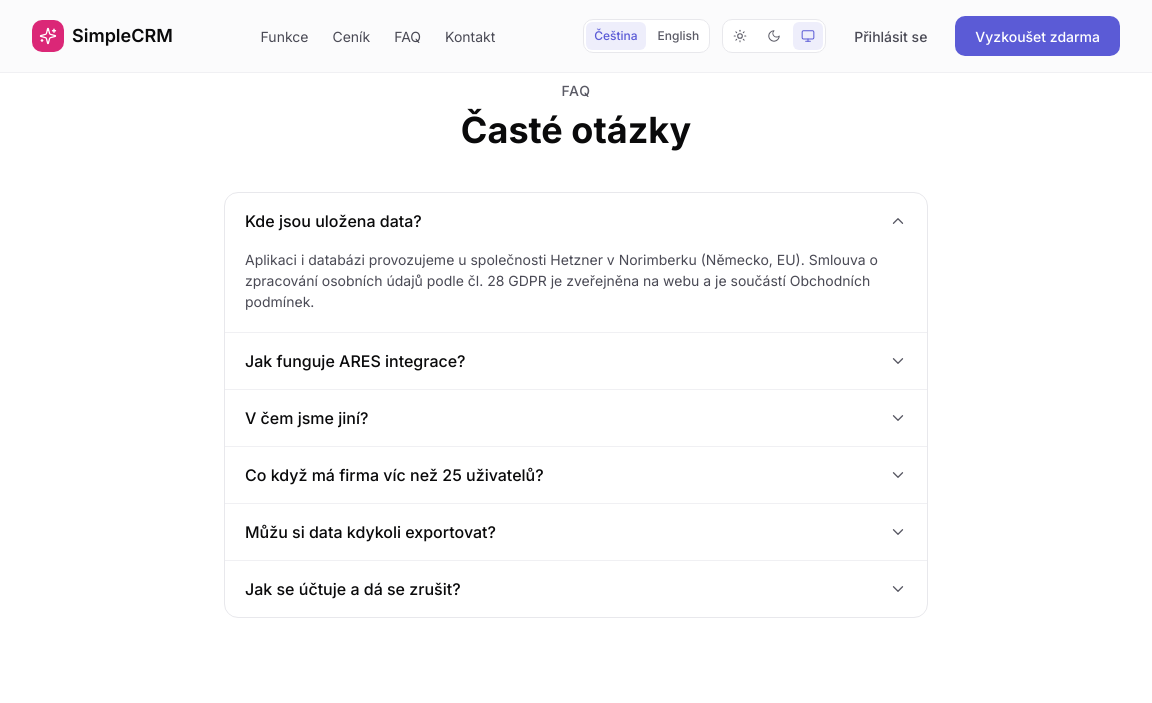
Scenario: Landing page › expands and collapses an FAQ entry
(page scrolled)
Click the button "Jak funguje ARES integrace?" at x=355, y=361, box [225,333,927,389]
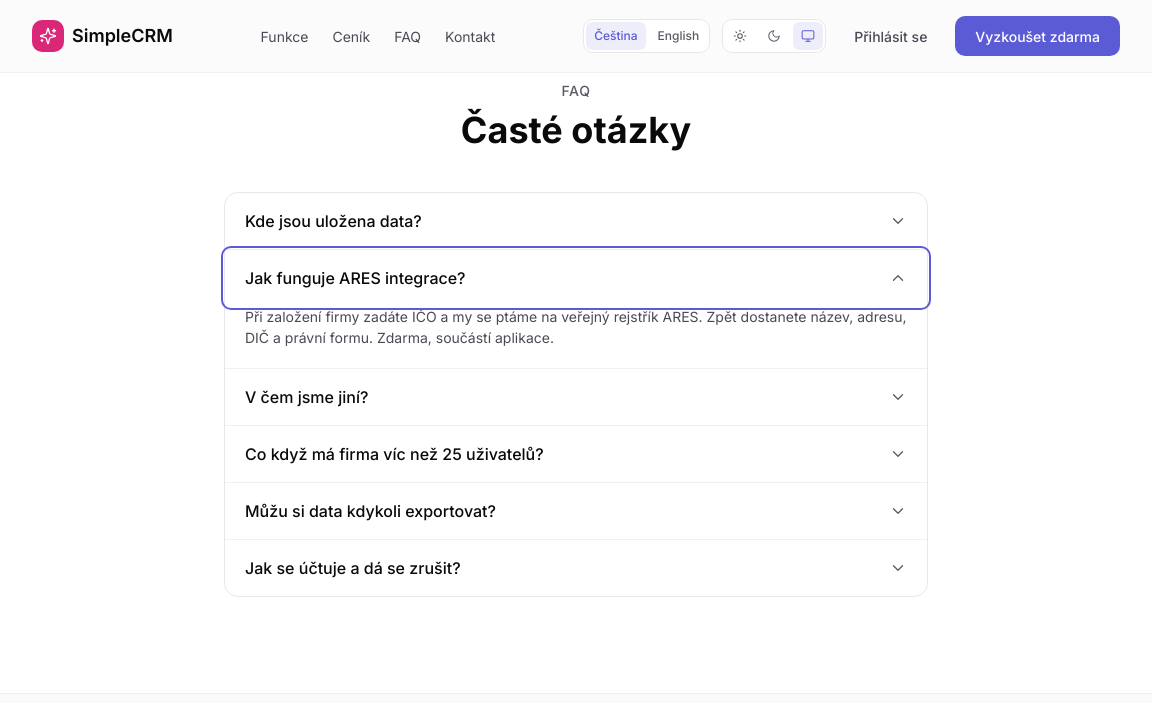
Now the button "Jak funguje ARES integrace?" is expanded
Click the button "Jak funguje ARES integrace?" at x=355, y=278, box [225,250,927,306]
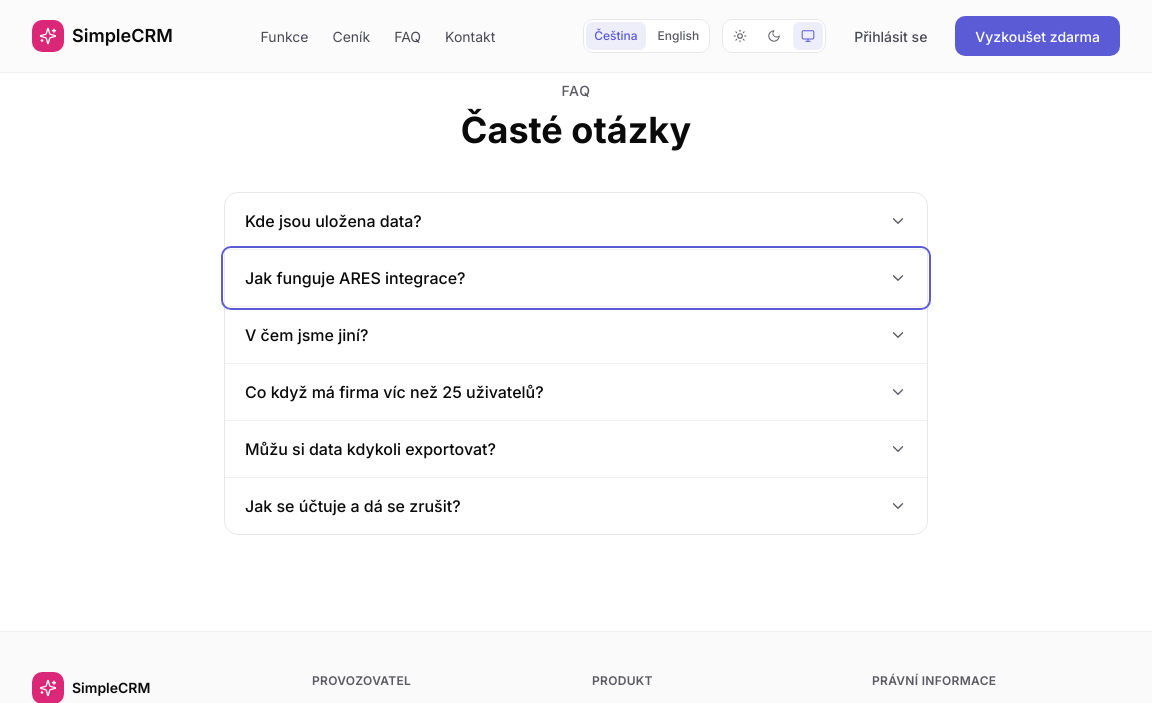
Now the button "Jak funguje ARES integrace?" is collapsed, box [225,250,927,306]
